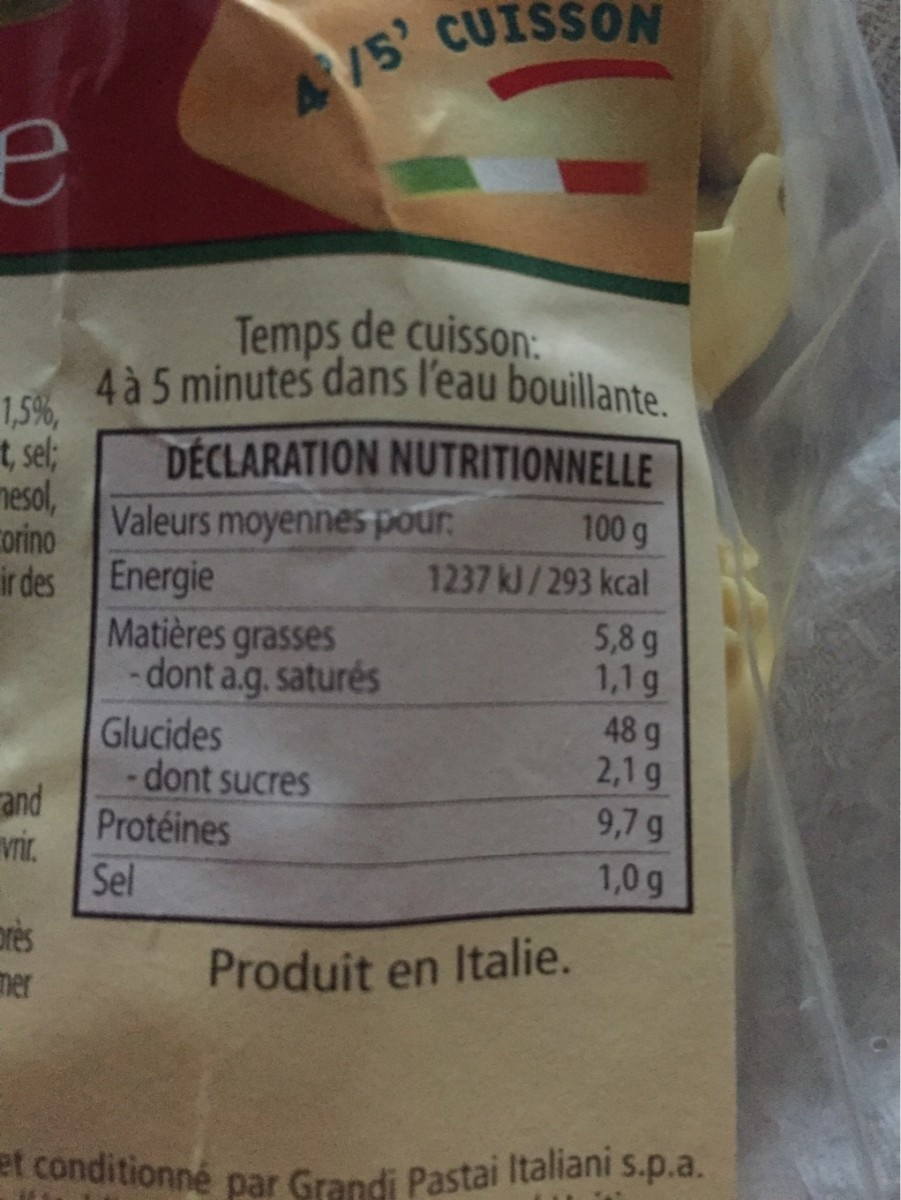column: (95, 556, 384, 904), (425, 561, 664, 902)
table: (89, 433, 693, 927)
